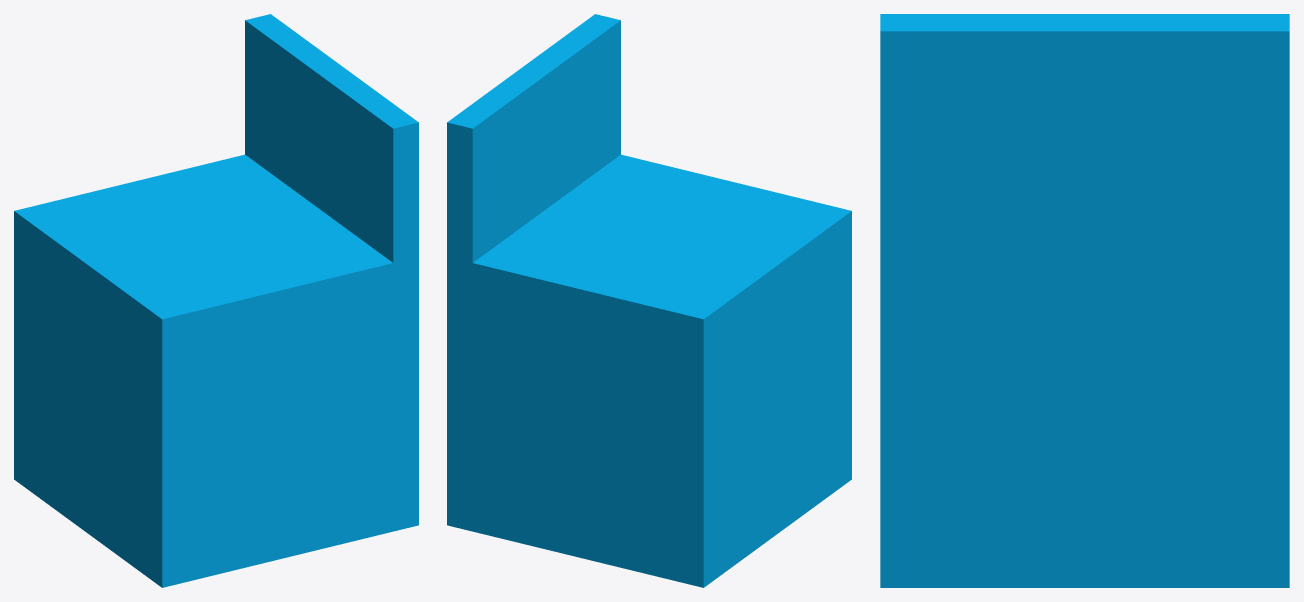
3 renders of one model, left to right at view 1: azimuth 30°, elevation 25°; view 2: azimuth 150°, elevation 25°; view 3: azimuth 270°, elevation 25°, orthographic. The views are drawn at different scales.
Visible parts, largest first — view 1: katahou; view 2: katahou; view 3: katahou.
Part boxes in pixels (bbox=[...]): katahou: bbox=[14, 14, 418, 587]; katahou: bbox=[447, 14, 851, 587]; katahou: bbox=[880, 14, 1289, 587].
Size of the model in its own units: 2000 by 3000 by 2000.
